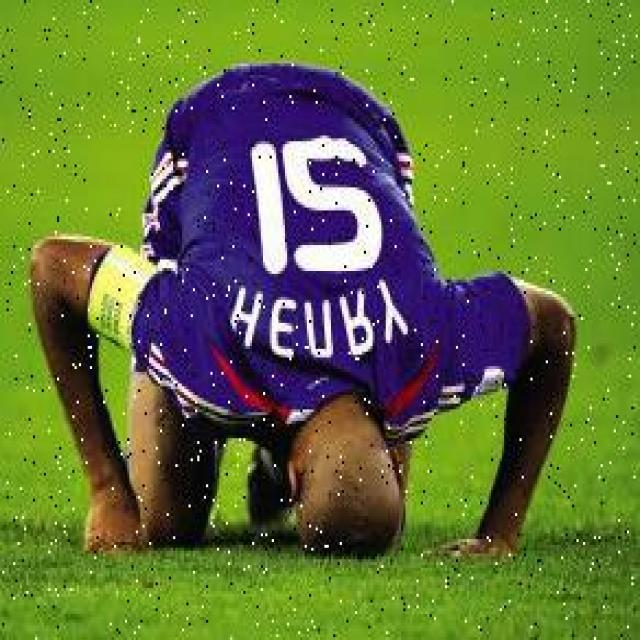fall: (70, 67, 570, 550)
